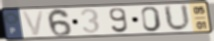0: (140, 5, 163, 33)
3: (79, 7, 103, 36)
6: (46, 7, 74, 38)
9: (108, 7, 130, 34)
U: (162, 4, 193, 33)
V: (20, 10, 46, 37)
